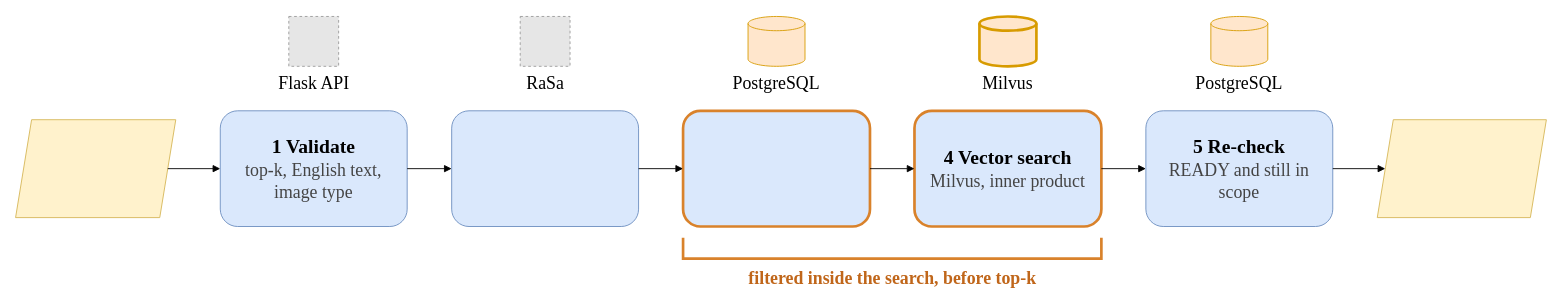
Some shapes in this 1562 by 308 pixel diagram are drawn without their labels. Grey dashed boxes stand in for pictures. The centre of each missing label's shape, as x and y in pixels:
2 Encode RaSa → 256-d vector: (x=545, y=168)
3 Resolve scope cameras of the Operator's area: (x=776, y=168)
Query image, text or attributes: (x=95, y=168)
Top-k results + Matching Score: (x=1461, y=168)
